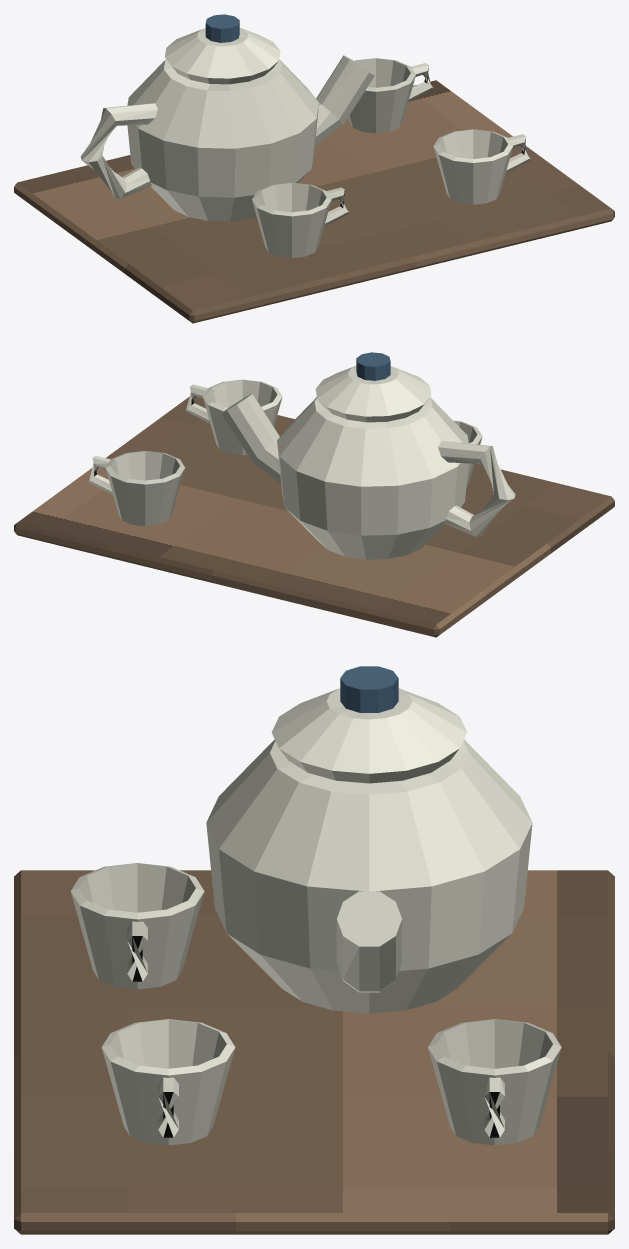
Rendered from tea-set.glb.
3 renders of one model, top to bottom at view 1: azimuth 30°, elevation 25°; view 2: azimuth 150°, elevation 25°; view 3: azimuth 270°, elevation 25°, orthographic. The views are drawn at different scales.
Visible parts, largest first — view 1: tea-set/wooden-tray, tea-set/teapot, tea-set/lid, tea-set/cup-0, tea-set/cup-2, tea-set/cup-1, tea-set/teapot-handle, tea-set/spout, tea-set/lid-knob, tea-set/cup-handle-0, tea-set/cup-handle-1, tea-set/cup-handle-2; view 2: tea-set/wooden-tray, tea-set/teapot, tea-set/lid, tea-set/cup-1, tea-set/teapot-handle, tea-set/cup-0, tea-set/spout, tea-set/lid-knob, tea-set/cup-handle-0, tea-set/cup-handle-1, tea-set/cup-2; view 3: tea-set/wooden-tray, tea-set/teapot, tea-set/lid, tea-set/cup-0, tea-set/cup-2, tea-set/cup-1, tea-set/spout, tea-set/lid-knob, tea-set/cup-handle-0, tea-set/cup-handle-2, tea-set/cup-handle-1.
Boxes of the visible parts, left/top/right/bottom form: tea-set/wooden-tray: left=14, top=80, right=614, bottom=323; tea-set/teapot: left=127, top=59, right=318, bottom=221; tea-set/lid: left=165, top=28, right=280, bottom=84; tea-set/cup-0: left=433, top=129, right=513, bottom=204; tea-set/cup-2: left=252, top=182, right=331, bottom=257; tea-set/cup-1: left=348, top=58, right=415, bottom=133; tea-set/teapot-handle: left=80, top=103, right=157, bottom=198; tea-set/spout: left=315, top=55, right=374, bottom=145; tea-set/lid-knob: left=205, top=14, right=239, bottom=42; tea-set/cup-handle-0: left=502, top=134, right=531, bottom=173; tea-set/cup-handle-1: left=405, top=63, right=433, bottom=102; tea-set/cup-handle-2: left=320, top=187, right=349, bottom=226; tea-set/wooden-tray: left=14, top=396, right=614, bottom=637; tea-set/teapot: left=277, top=397, right=468, bottom=559; tea-set/lid: left=315, top=366, right=431, bottom=422; tea-set/cup-1: left=105, top=451, right=185, bottom=526; tea-set/teapot-handle: left=438, top=441, right=515, bottom=536; tea-set/cup-0: left=203, top=379, right=282, bottom=454; tea-set/spout: left=221, top=393, right=281, bottom=483; tea-set/lid-knob: left=356, top=352, right=390, bottom=380; tea-set/cup-handle-0: left=185, top=384, right=213, bottom=423; tea-set/cup-handle-1: left=87, top=455, right=116, bottom=494; tea-set/cup-2: left=453, top=420, right=482, bottom=487; tea-set/wooden-tray: left=14, top=870, right=614, bottom=1234; tea-set/teapot: left=206, top=739, right=532, bottom=1013; tea-set/lid: left=271, top=688, right=467, bottom=783; tea-set/cup-0: left=101, top=1019, right=235, bottom=1145; tea-set/cup-2: left=70, top=863, right=204, bottom=989; tea-set/cup-1: left=428, top=1019, right=561, bottom=1145; tea-set/spout: left=336, top=891, right=401, bottom=992; tea-set/lid-knob: left=340, top=666, right=398, bottom=712; tea-set/cup-handle-0: left=158, top=1077, right=178, bottom=1137; tea-set/cup-handle-2: left=127, top=921, right=147, bottom=981; tea-set/cup-handle-1: left=484, top=1077, right=504, bottom=1137.
Size of the model in its own units: 0.4839 by 0.208 by 0.35.
3 materials, 3 textured.
